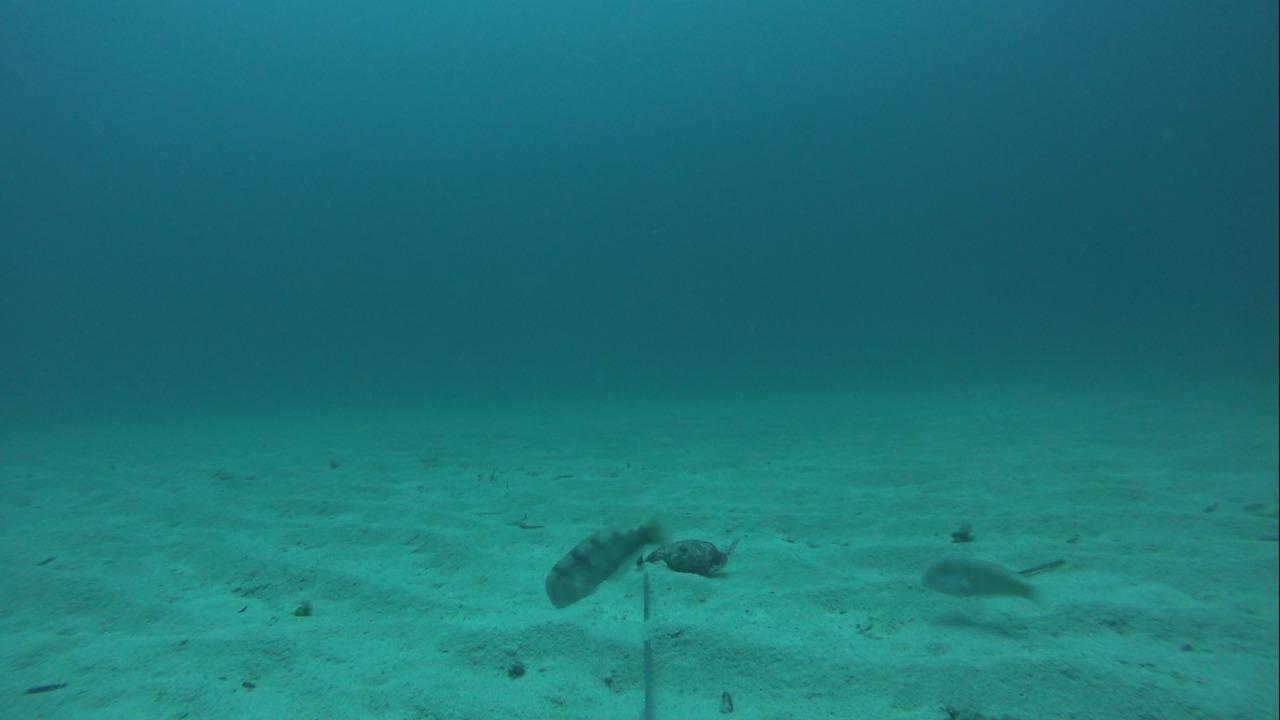raor: (539, 510, 669, 612), (920, 558, 1038, 605)
